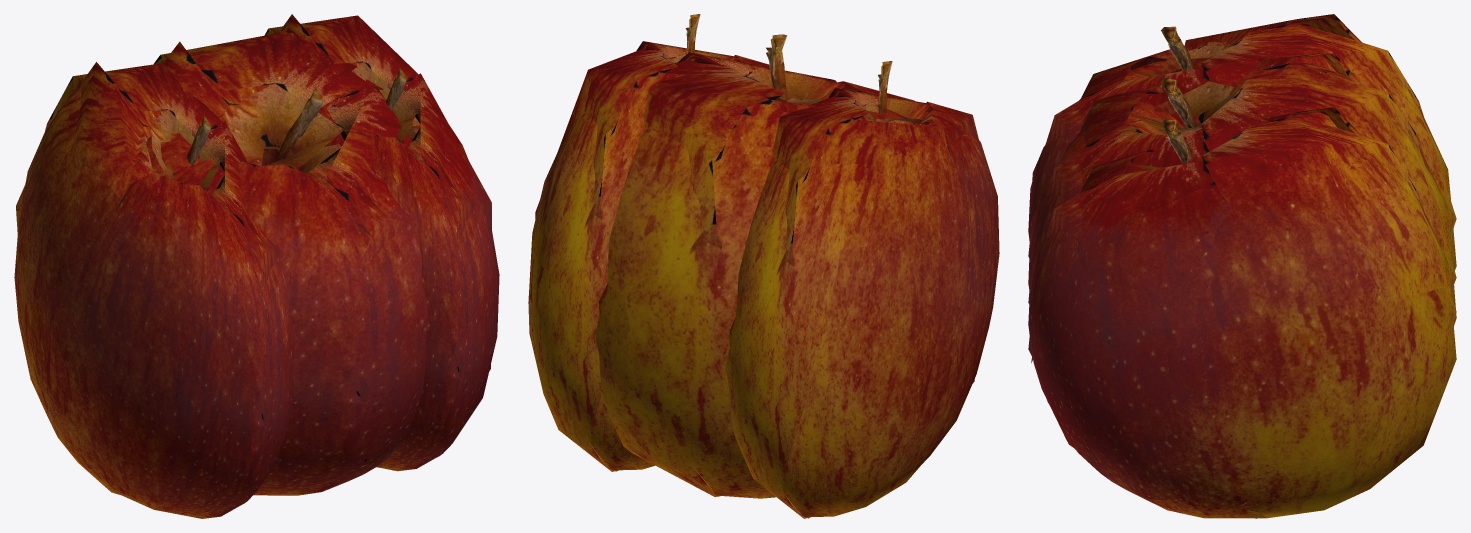
Rendered from apples.glb.
3 views of the same model, side by side, from view 1: azimuth 30°, elevation 25°; view 2: azimuth 150°, elevation 25°; view 3: azimuth 270°, elevation 25° (orthographic). The views are drawn at different scales.
Parts seen in each view (by area): view 1: apple-pair-fine, apple-fine, apple-pair-coarse, apple-coarse; view 2: apple-pair-fine, apple-fine, apple-pair-coarse, apple-coarse; view 3: apple-pair-fine, apple-pair-coarse, apple-coarse, apple-fine.
Boxes of the visible parts, left/top/right/bottom form: apple-pair-fine: left=14, top=62, right=499, bottom=518; apple-fine: left=53, top=72, right=456, bottom=495; apple-pair-coarse: left=16, top=14, right=491, bottom=491; apple-coarse: left=53, top=28, right=458, bottom=466; apple-pair-fine: left=528, top=14, right=999, bottom=518; apple-fine: left=596, top=34, right=953, bottom=498; apple-pair-coarse: left=535, top=18, right=989, bottom=518; apple-coarse: left=598, top=38, right=914, bottom=496; apple-pair-fine: left=1028, top=26, right=1456, bottom=518; apple-pair-coarse: left=1028, top=14, right=1456, bottom=518; apple-coarse: left=1028, top=53, right=1456, bottom=303; apple-fine: left=1028, top=63, right=1456, bottom=386.
Bounding box in the file's own units: 1 × 1 × 1.
Materials: 1 (1 with a texture image).
